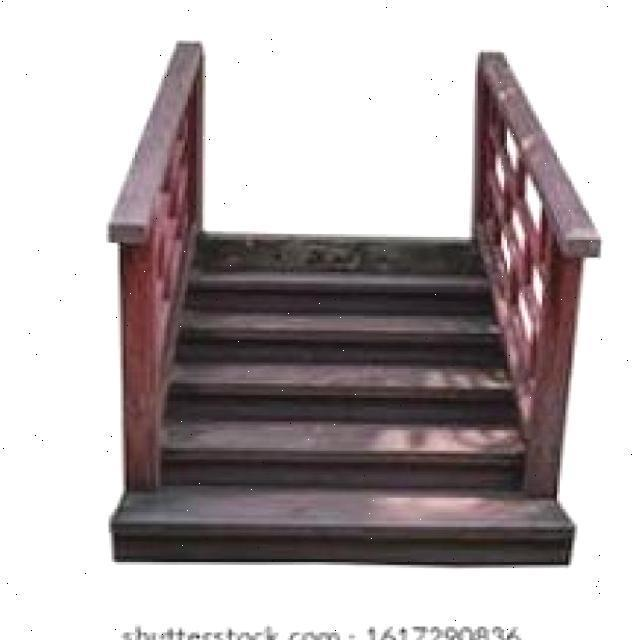stair: (164, 249, 522, 492)
